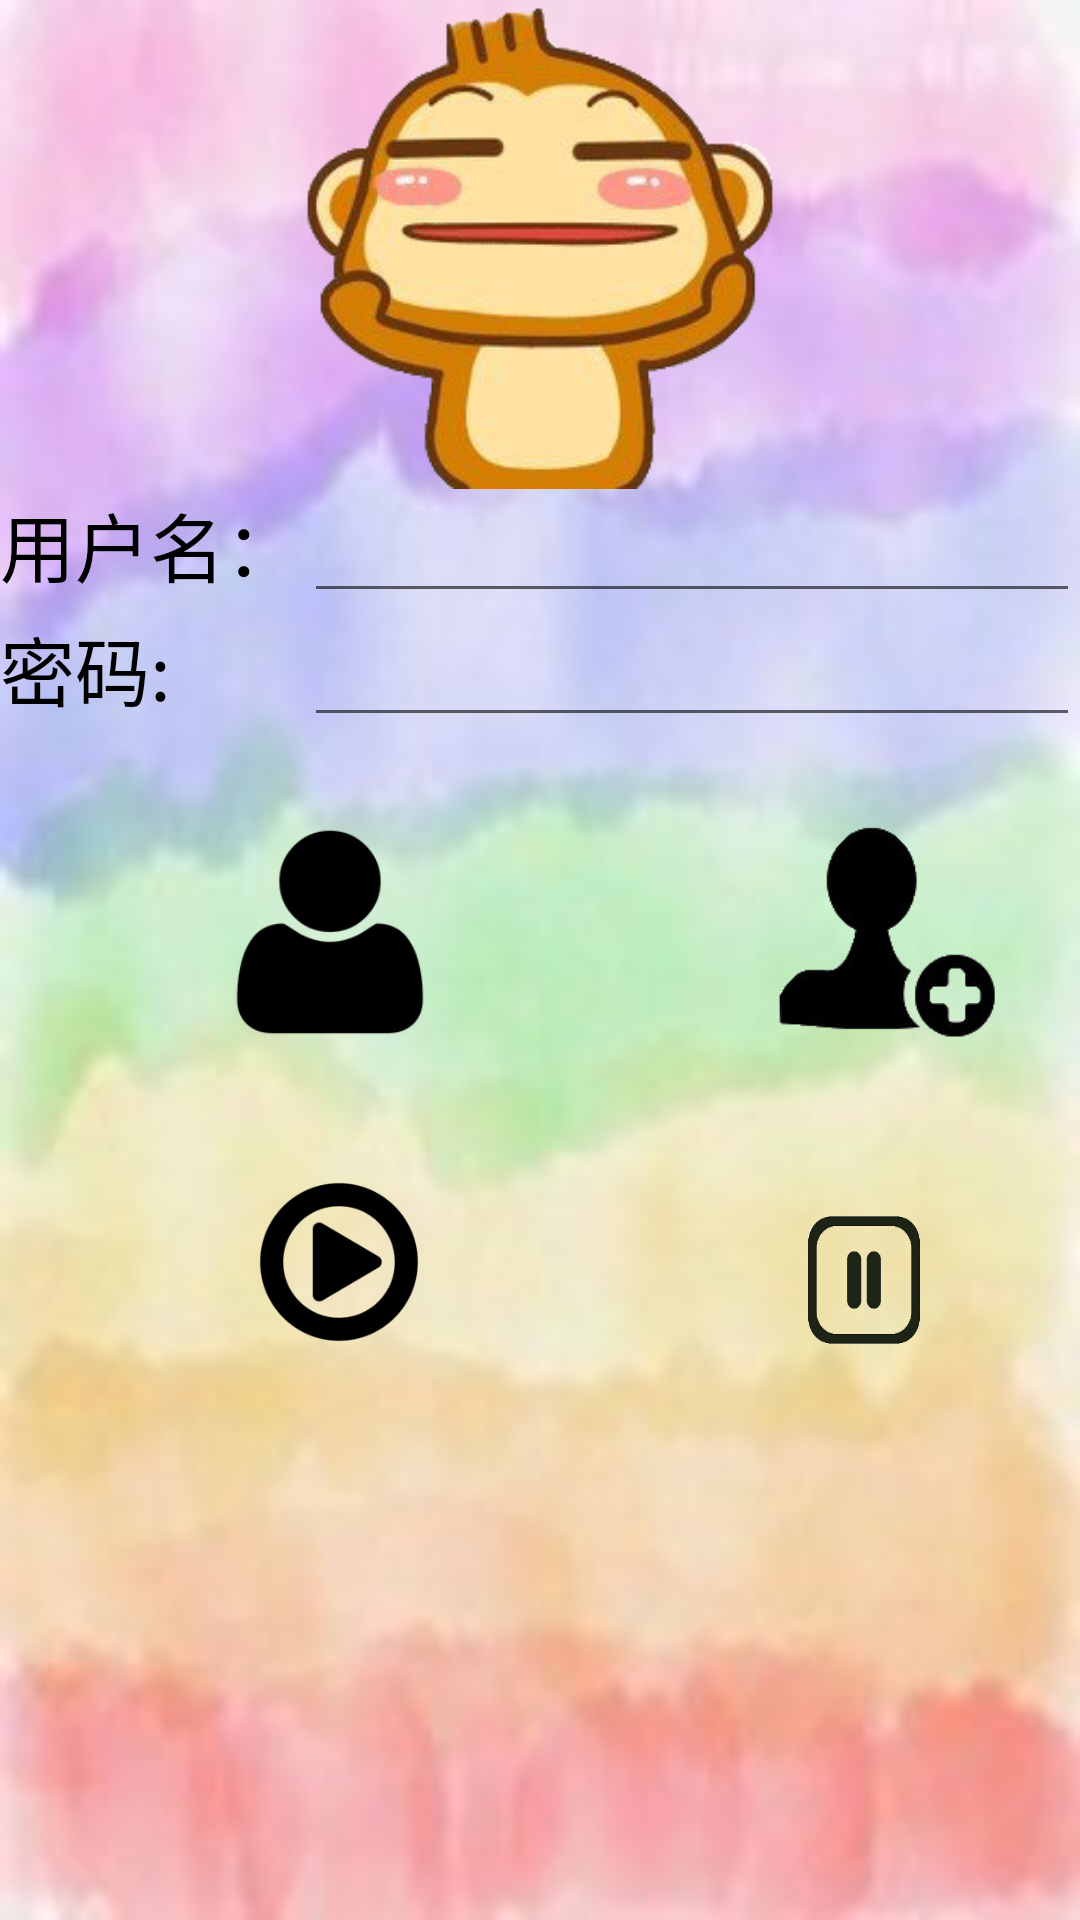

Icons on this 1080px×1920px Android screen, each with its box as (x1, y1, x2, y2):
play: (259, 1183, 418, 1341)
register: (765, 819, 1005, 1044)
